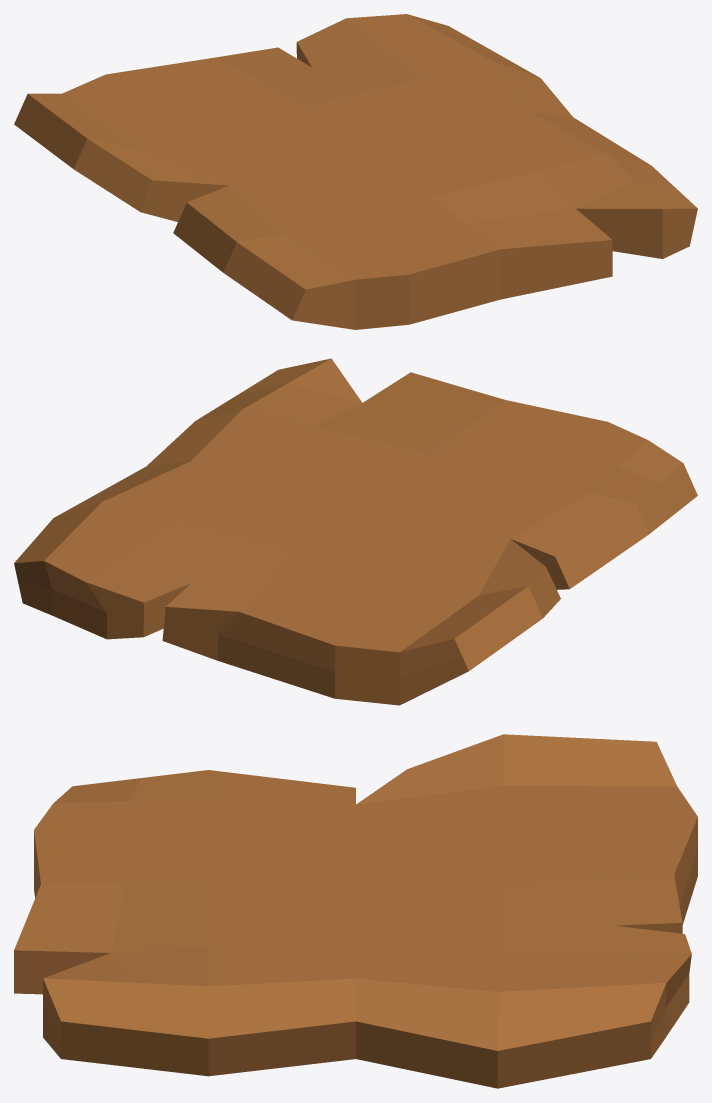
3 renders of one model, top to bottom at view 1: azimuth 30°, elevation 25°; view 2: azimuth 150°, elevation 25°; view 3: azimuth 270°, elevation 25°, orthographic. The views are drawn at different scales.
Parts seen in each view (by area): view 1: Cube.001; view 2: Cube.001; view 3: Cube.001.
Boxes of the visible parts, bbox=[...] form: Cube.001: bbox=[14, 14, 697, 329]; Cube.001: bbox=[14, 358, 697, 705]; Cube.001: bbox=[14, 734, 697, 1088].
Size of the model in its own units: 215 by 36.99 by 232.
Materials: 1 (1 with a texture image).
